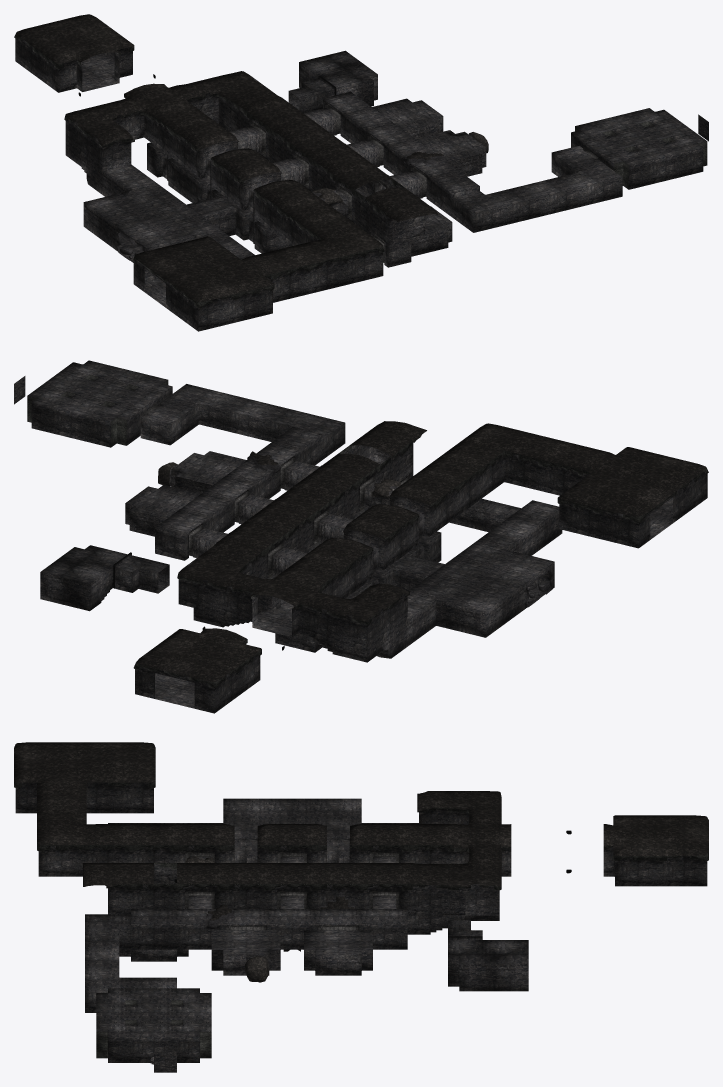
3 views of the same model, one above another, from view 1: azimuth 30°, elevation 25°; view 2: azimuth 150°, elevation 25°; view 3: azimuth 270°, elevation 25° (orthographic). The views are drawn at different scales.
Visible parts, largest first — view 1: Chunk-66_Mesh-0, Chunk-26_Mesh-0, Chunk-35_Mesh-0, Chunk-36_Mesh-0, Chunk-73_Mesh-0, Chunk-25_Mesh-0, Chunk-52_Mesh-0, Chunk-59_Mesh-0, Chunk-1_Mesh-0, Chunk-68_Mesh-0, Chunk-0_Mesh-1, Chunk-49_Mesh-0 (+42 smaller); view 2: Chunk-66_Mesh-0, Chunk-26_Mesh-0, Chunk-59_Mesh-0, Chunk-73_Mesh-0, Chunk-68_Mesh-0, Chunk-52_Mesh-0, Chunk-36_Mesh-0, Chunk-1_Mesh-0, Chunk-25_Mesh-0, Chunk-67_Mesh-0, Chunk-35_Mesh-0, Chunk-0_Mesh-1 (+39 smaller); view 3: Chunk-66_Mesh-0, Chunk-26_Mesh-0, Chunk-59_Mesh-0, Chunk-1_Mesh-0, Chunk-35_Mesh-0, Chunk-34_Mesh-0, Chunk-67_Mesh-0, Chunk-56_Mesh-0, Chunk-0_Mesh-1, Chunk-73_Mesh-0, Chunk-2_Mesh-0, Chunk-25_Mesh-0 (+37 smaller).
Part boxes in pixels (<box>): Chunk-66_Mesh-0: <box>571,108,706,189</box>; Chunk-26_Mesh-0: <box>135,236,274,303</box>; Chunk-35_Mesh-0: <box>430,170,547,232</box>; Chunk-36_Mesh-0: <box>532,145,622,214</box>; Chunk-73_Mesh-0: <box>83,193,185,262</box>; Chunk-25_Mesh-0: <box>133,259,272,331</box>; Chunk-52_Mesh-0: <box>108,168,243,250</box>; Chunk-59_Mesh-0: <box>288,50,377,113</box>; Chunk-1_Mesh-0: <box>16,14,134,65</box>; Chunk-68_Mesh-0: <box>65,110,152,196</box>; Chunk-0_Mesh-1: <box>15,38,132,92</box>; Chunk-49_Mesh-0: <box>356,185,425,267</box>; Chunk-66_Mesh-0: <box>27,360,172,447</box>; Chunk-26_Mesh-0: <box>558,447,706,518</box>; Chunk-59_Mesh-0: <box>40,545,169,611</box>; Chunk-73_Mesh-0: <box>446,552,554,637</box>; Chunk-68_Mesh-0: <box>272,593,413,662</box>; Chunk-52_Mesh-0: <box>407,525,527,641</box>; Chunk-36_Mesh-0: <box>140,384,265,445</box>; Chunk-1_Mesh-0: <box>135,628,261,681</box>; Chunk-25_Mesh-0: <box>559,471,707,548</box>; Chunk-67_Mesh-0: <box>178,554,291,632</box>; Chunk-35_Mesh-0: <box>248,403,345,465</box>; Chunk-0_Mesh-1: <box>135,644,260,713</box>; Chunk-66_Mesh-0: <box>96,988,211,1062</box>; Chunk-26_Mesh-0: <box>14,742,155,785</box>; Chunk-59_Mesh-0: <box>448,920,528,991</box>; Chunk-1_Mesh-0: <box>603,815,708,857</box>; Chunk-35_Mesh-0: <box>85,909,176,953</box>; Chunk-34_Mesh-0: <box>177,909,315,949</box>; Chunk-67_Mesh-0: <box>407,848,511,934</box>; Chunk-56_Mesh-0: <box>304,930,372,975</box>; Chunk-0_Mesh-1: <box>603,846,707,886</box>; Chunk-73_Mesh-0: <box>223,798,361,818</box>; Chunk-2_Mesh-0: <box>448,830,511,887</box>; Chunk-25_Mesh-0: <box>15,782,153,813</box>.
Size of the model in its own units: 12380 by 1384 by 12060.
12 materials, 12 textured.
